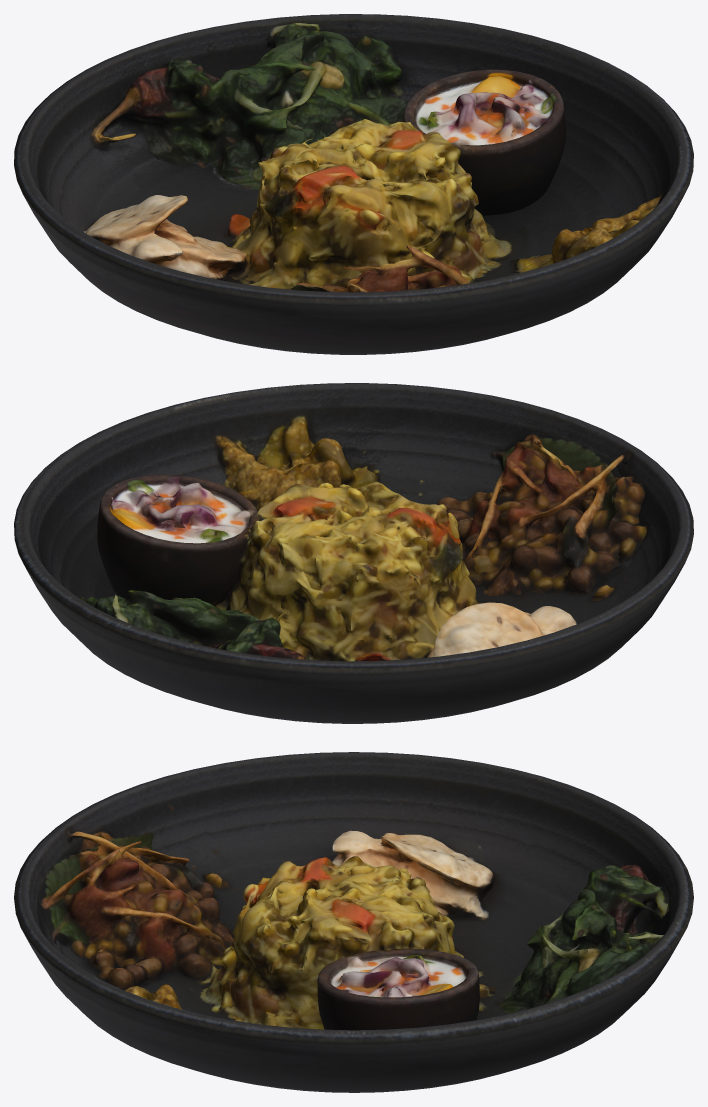
Rendered from Ayurvedic_khichdi.FBX.
3 renders of one model, top to bottom at view 1: azimuth 30°, elevation 25°; view 2: azimuth 150°, elevation 25°; view 3: azimuth 270°, elevation 25°, orthographic.
Visible parts, largest first — view 1: Ayurvedic khichdi (black plate yellow rice, spinach); view 2: Ayurvedic khichdi (black plate yellow rice, spinach); view 3: Ayurvedic khichdi (black plate yellow rice, spinach).
Part boxes in pixels (left/top/right/bottom): Ayurvedic khichdi (black plate yellow rice, spinach): left=14, top=14, right=693, bottom=354; Ayurvedic khichdi (black plate yellow rice, spinach): left=14, top=383, right=693, bottom=723; Ayurvedic khichdi (black plate yellow rice, spinach): left=14, top=752, right=693, bottom=1092.
Bounding box in the file's own units: 4.33 × 0.826 × 4.33.
1 material, 1 textured.
